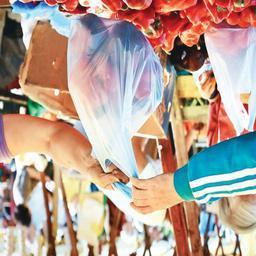plastic: (69, 15, 164, 177), (206, 28, 256, 135)
